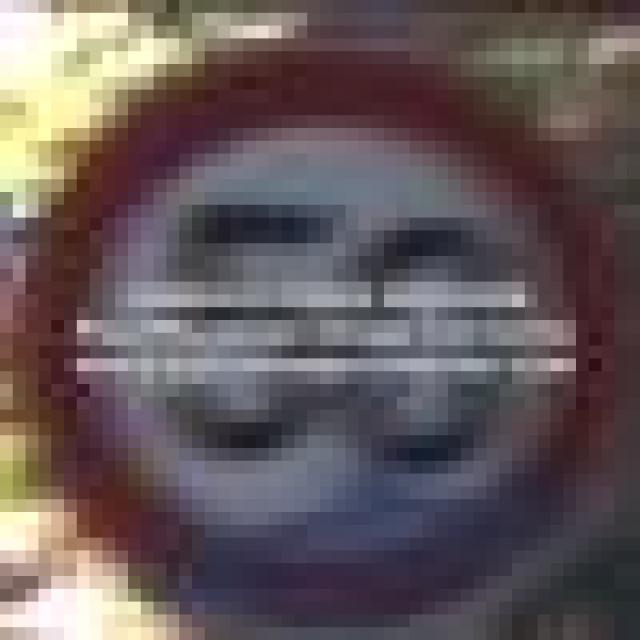SPEED_LIMIT_50: (12, 38, 602, 589)
